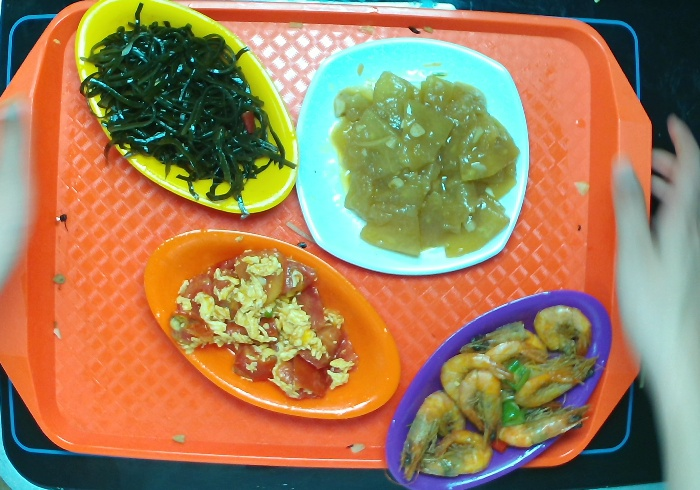RJxy-Fen_Hong_Tuo_Yuan: (376, 284, 614, 488)
RJxy-Huang_Se_Tuo_Yuan: (73, 1, 302, 224)
RJxy-Ju_Huang_Tuo_Yuan: (136, 221, 408, 423)
RJxy-Si_Fang_Die: (290, 34, 531, 280)
